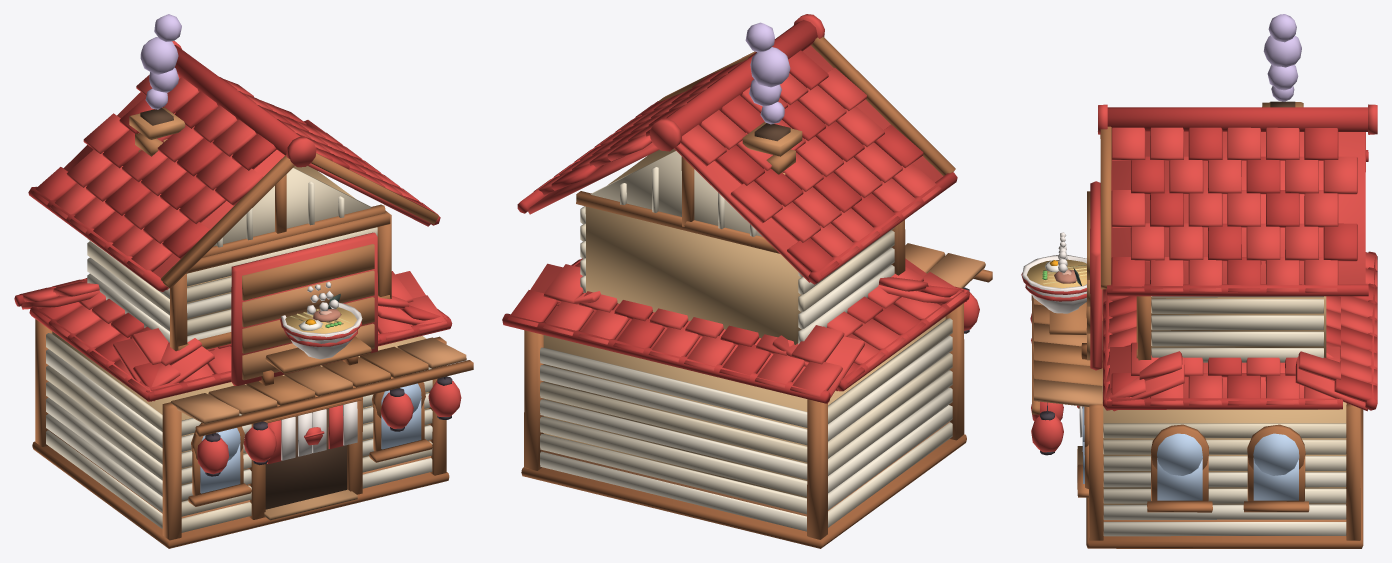
Rendered from ramen.glb.
3 renders of one model, left to right at view 1: azimuth 30°, elevation 25°; view 2: azimuth 150°, elevation 25°; view 3: azimuth 270°, elevation 25°, orthographic. The views are drawn at different scales.
Parts seen in each view (by area): view 1: ramen; view 2: ramen; view 3: ramen.
Boxes of the visible parts, bbox=[...] form: ramen: bbox=[14, 14, 473, 548]; ramen: bbox=[502, 14, 992, 548]; ramen: bbox=[1021, 14, 1377, 548].
Size of the model in its own units: 2.78 by 3.8 by 2.77.
